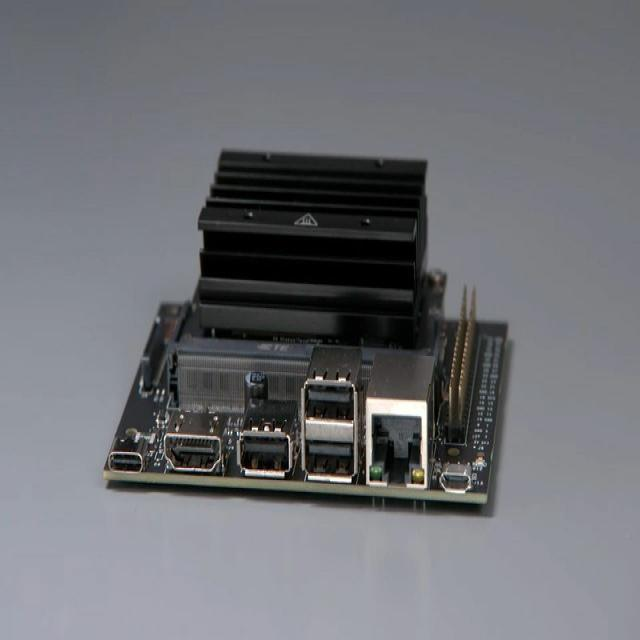Jetson Nano: (105, 151, 509, 503)
